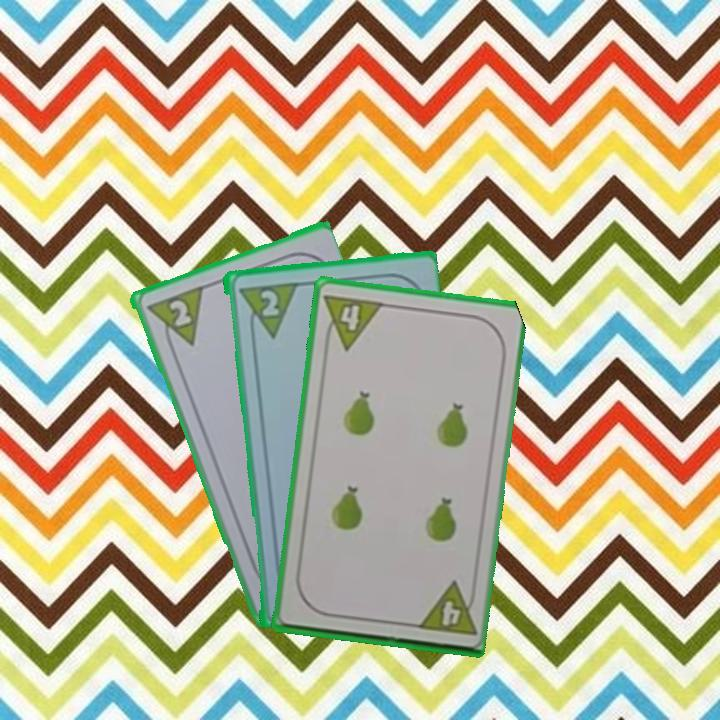2p: (164, 295, 194, 329), (256, 286, 281, 319)
4p: (320, 290, 386, 353), (412, 578, 479, 639)
